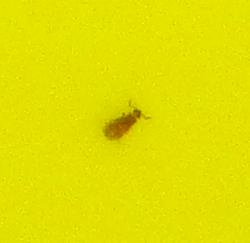Hymenoptera: (100, 100, 150, 143)
